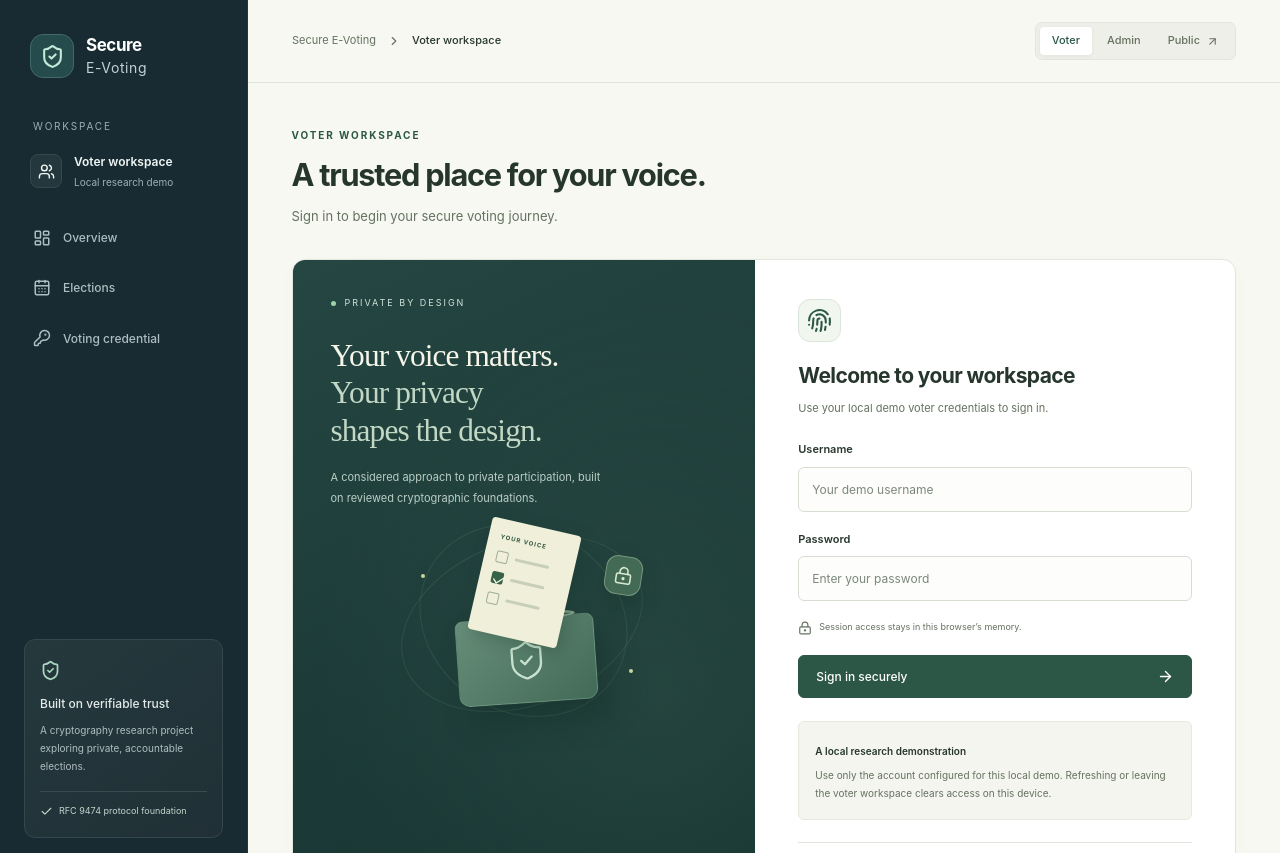
Test: voter access and state transitions › fails closed on session-check failure and can recover
Type "synthetic-voter" into the field labelled "Username" at [995, 489], box [798,467,1192,512]
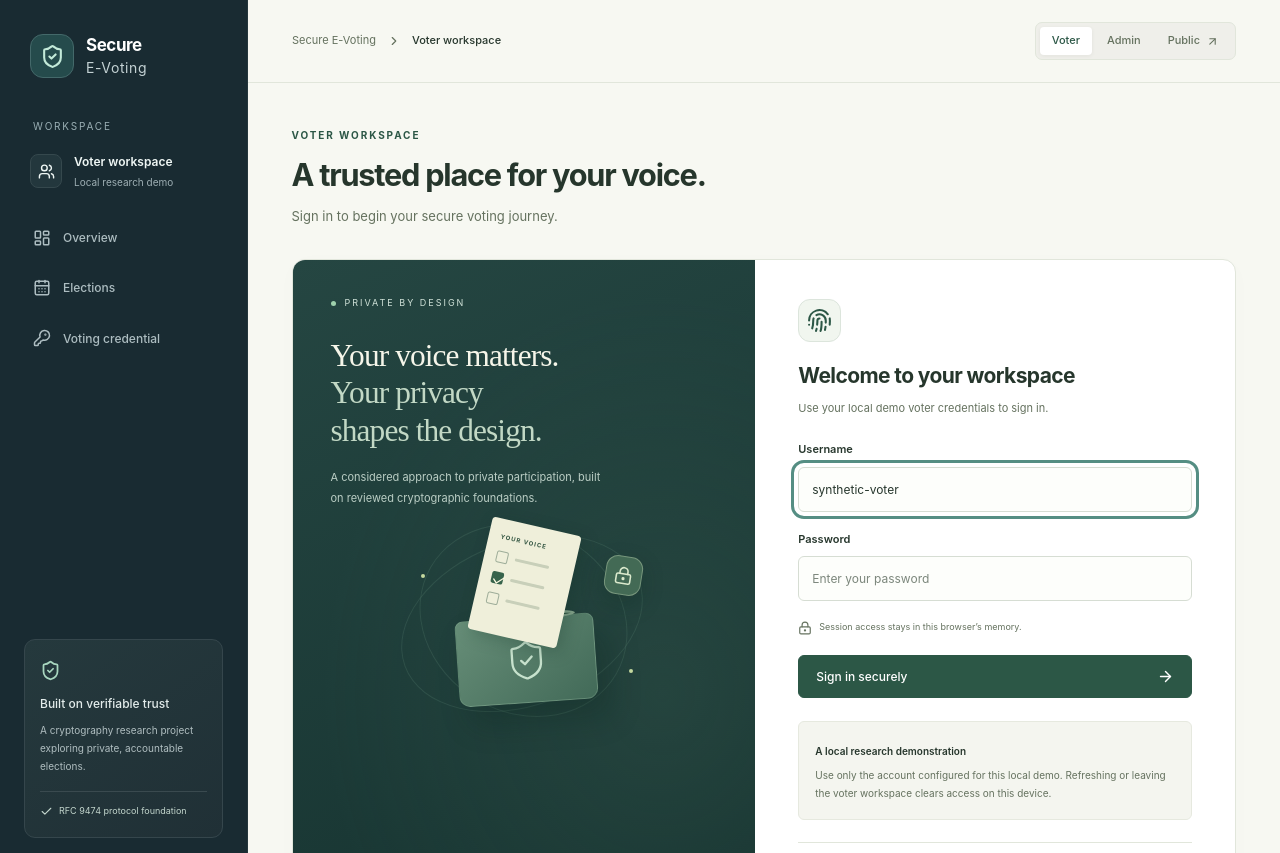
Type "synthetic-password" into the password field labelled "Password" at [995, 579], box [798,556,1192,601]
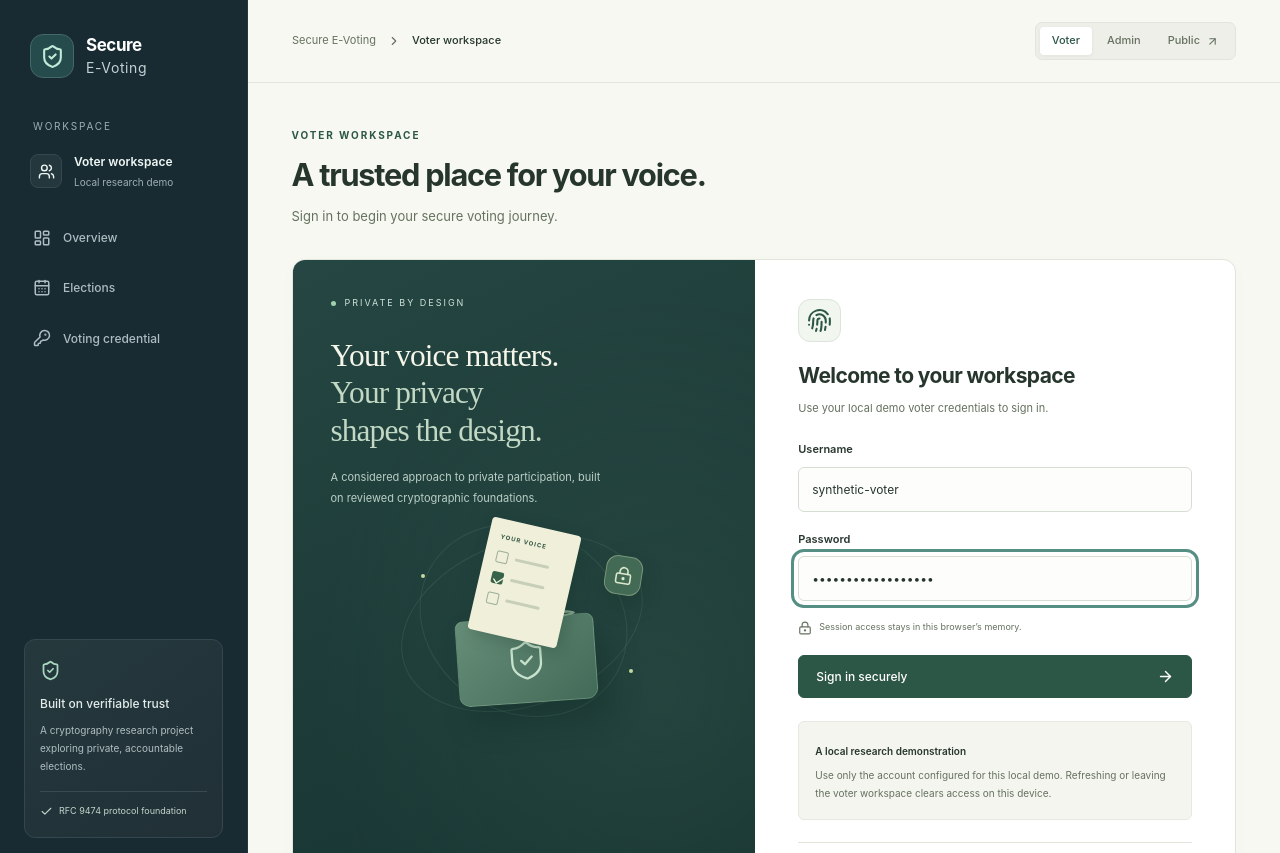
Click the button "Sign in securely" at [862, 676], box [798,655,1192,698]
(page scrolled)
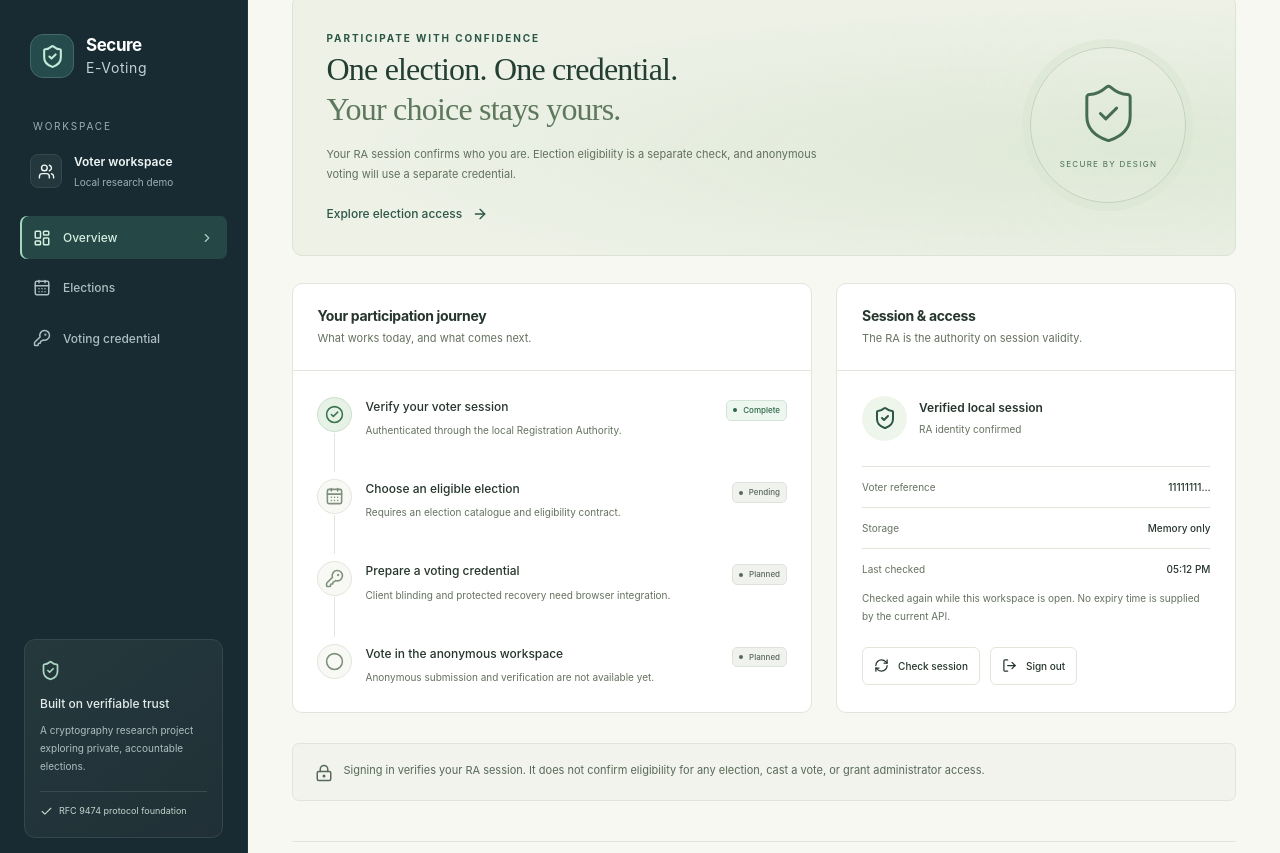
Click the button "Check session" at [921, 666], box [862,647,980,685]
(page scrolled)
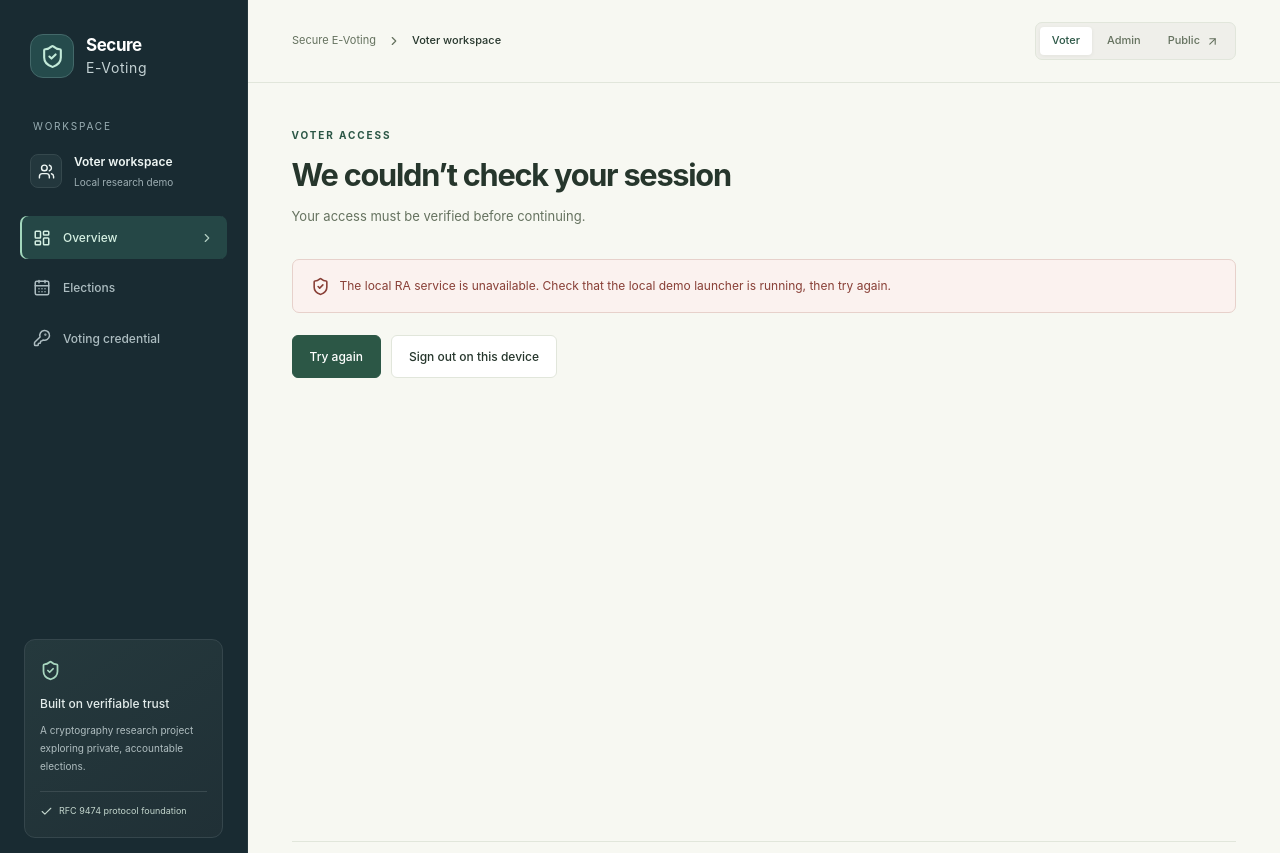
Expected: the heading "We couldn’t check your session" is shown, [292,156,731,194]
Click the button "Try again" at [336, 356], box [292,335,381,378]
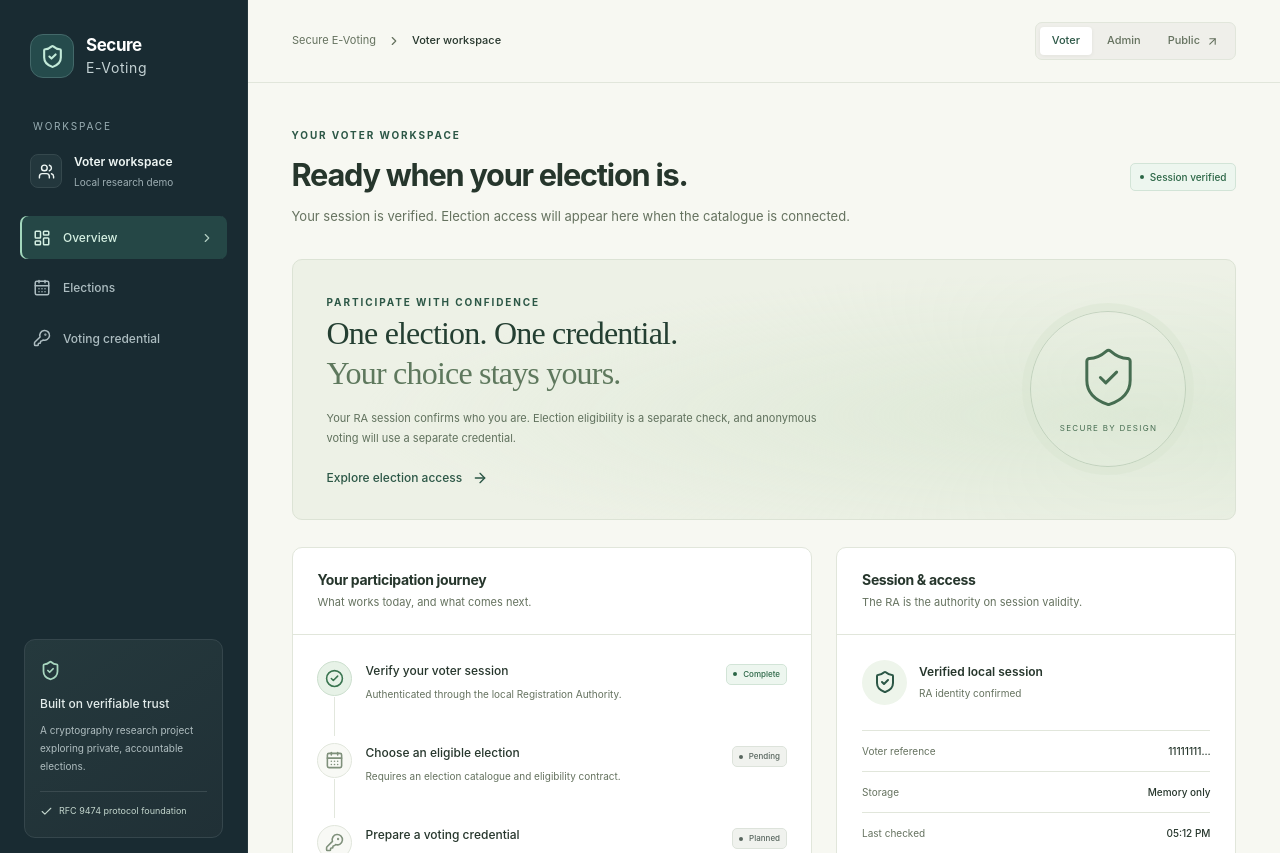
Expected: the text "Session verified" is shown, [1130,163,1236,191]
